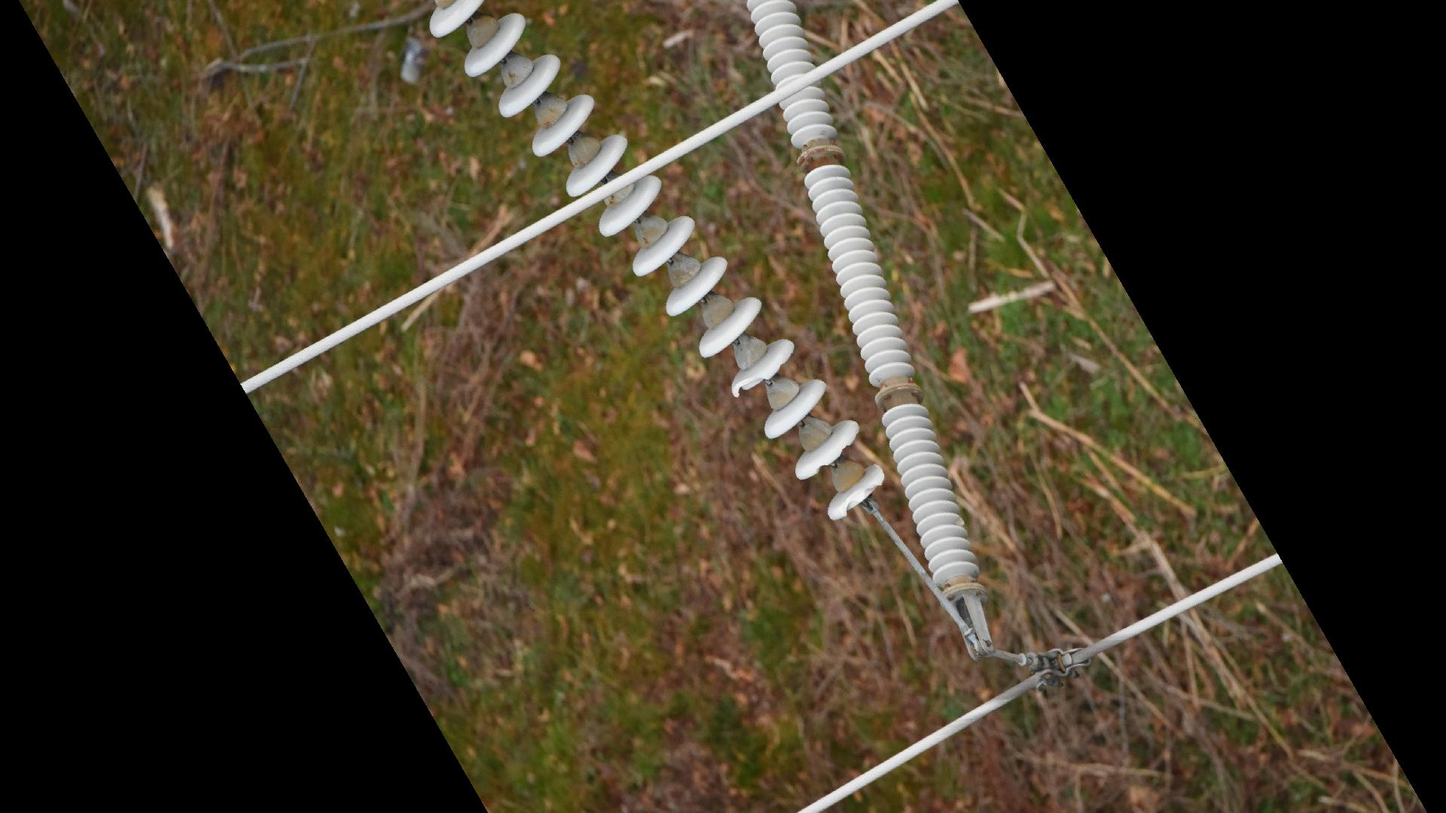insulator: (422, 1, 889, 528), (798, 157, 926, 391), (877, 400, 992, 599), (740, 1, 845, 154)
insulator_breakage: (834, 464, 892, 522), (807, 436, 856, 477), (728, 367, 776, 401)
